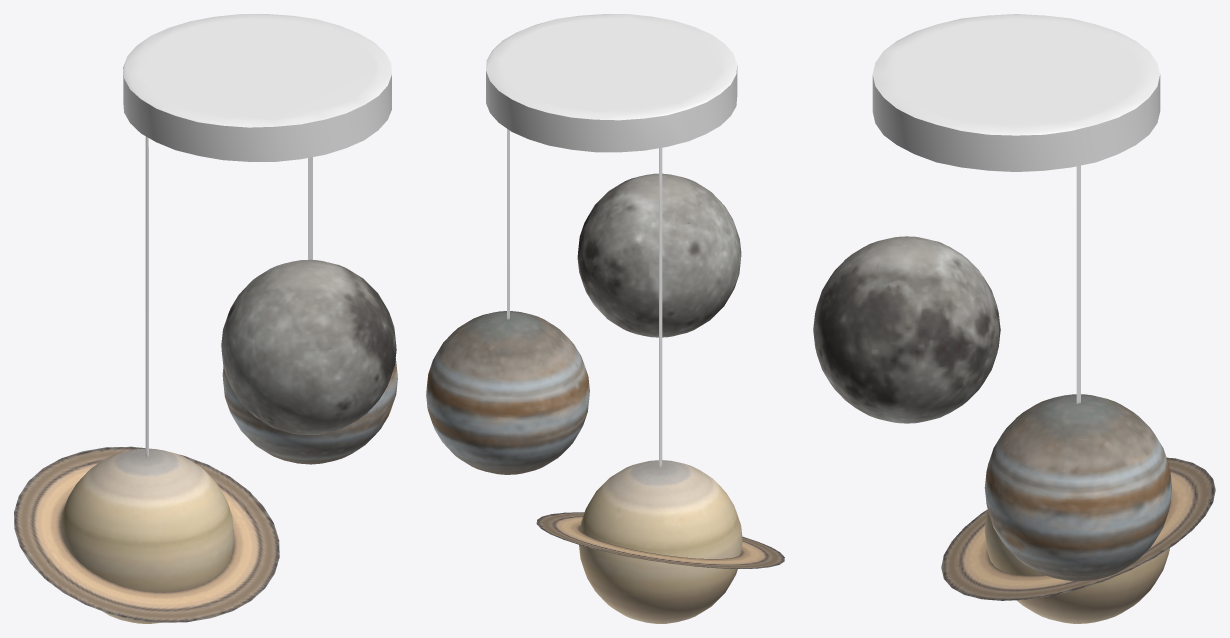
File: planet_lamp.glb
The picture shows the model from 3 angles, left to right: view 1: azimuth 30°, elevation 25°; view 2: azimuth 150°, elevation 25°; view 3: azimuth 270°, elevation 25°; orthographic projection. The views are drawn at different scales.
Parts seen in each view (by area): view 1: mesh; view 2: mesh; view 3: mesh.
Part boxes in pixels (x1,y1,x2,y2): mesh: (14, 14, 397, 623); mesh: (426, 14, 784, 623); mesh: (813, 14, 1215, 623).
Size of the model in its own units: 0.8837 by 1.3 by 0.8105.
Materials: 1 (1 with a texture image).
